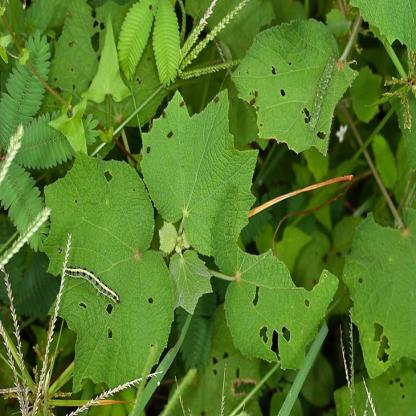armyworm: (58, 260, 130, 313), (308, 55, 337, 139)
